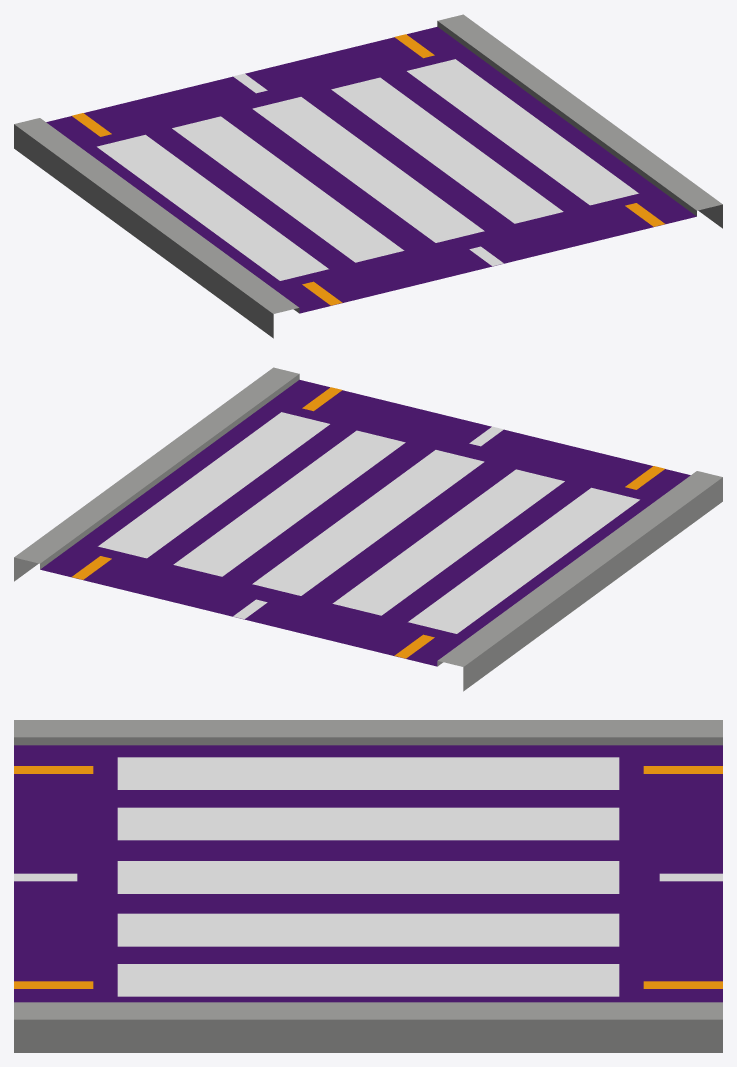
The model's file is Road_C_2_1.fbx.
3 views of the same model, one above another, from view 1: azimuth 30°, elevation 25°; view 2: azimuth 150°, elevation 25°; view 3: azimuth 270°, elevation 25° (orthographic). The views are drawn at different scales.
Visible parts, largest first — view 1: Road_C_2_1; view 2: Road_C_2_1; view 3: Road_C_2_1.
Part boxes in pixels (<box>): Road_C_2_1: <box>14,14,722,338</box>; Road_C_2_1: <box>14,367,722,691</box>; Road_C_2_1: <box>14,720,722,1052</box>.
Size of the model in its own units: 800 by 41.48 by 800.
